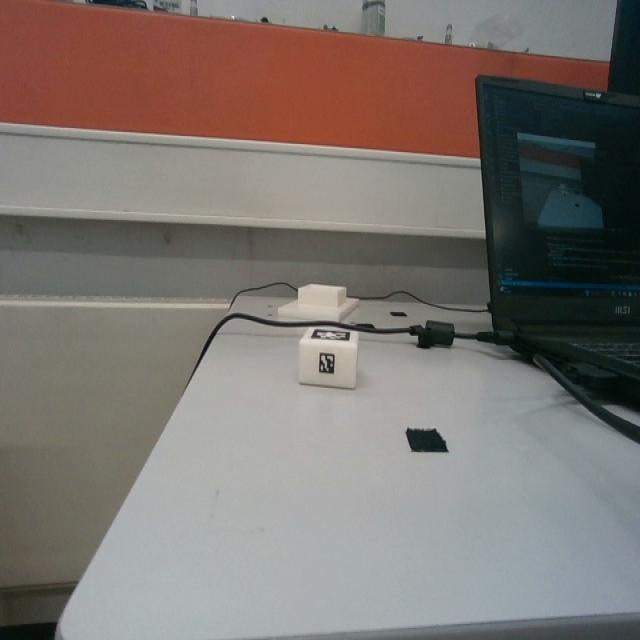Cube: (298, 328, 360, 391)
